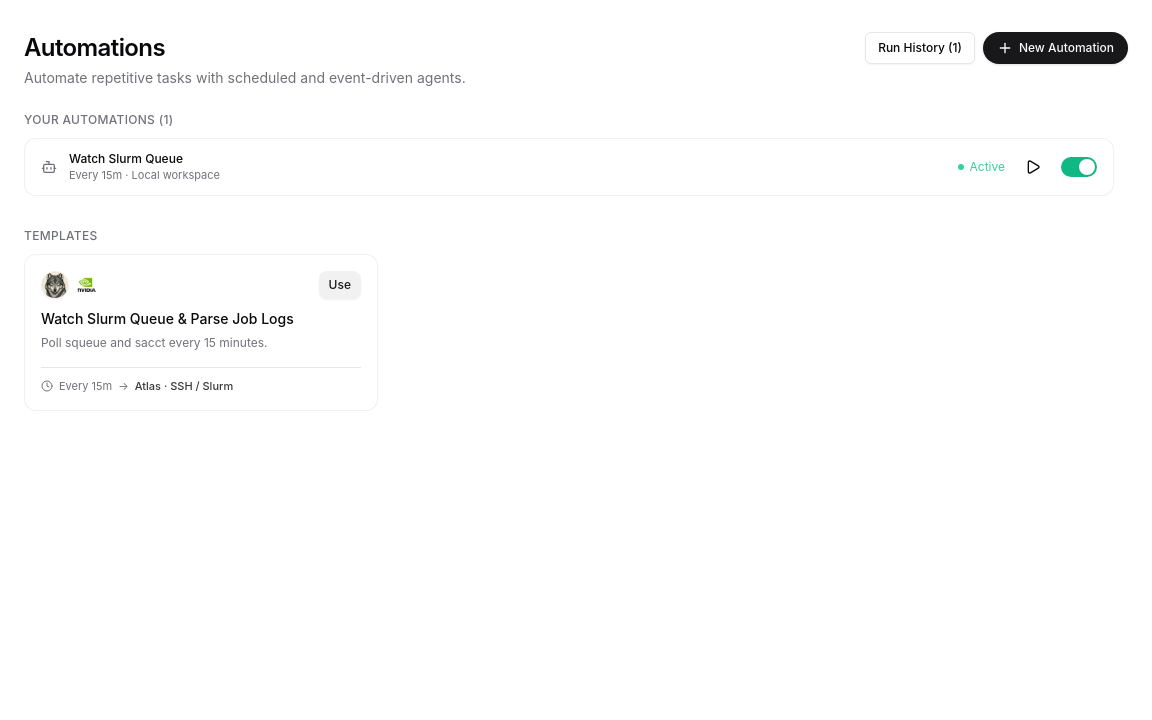
AutomationsView & SshView › renders simplified Automations Hub, opens Editor from template, saves, and views Run History
Check: the text "Watch Slurm Queue" is shown, box [69, 151, 183, 166]
# Click 'Use' on template to open streamlined Editor
Click the button "Use".
click(340, 285)  # box [319, 271, 361, 299]
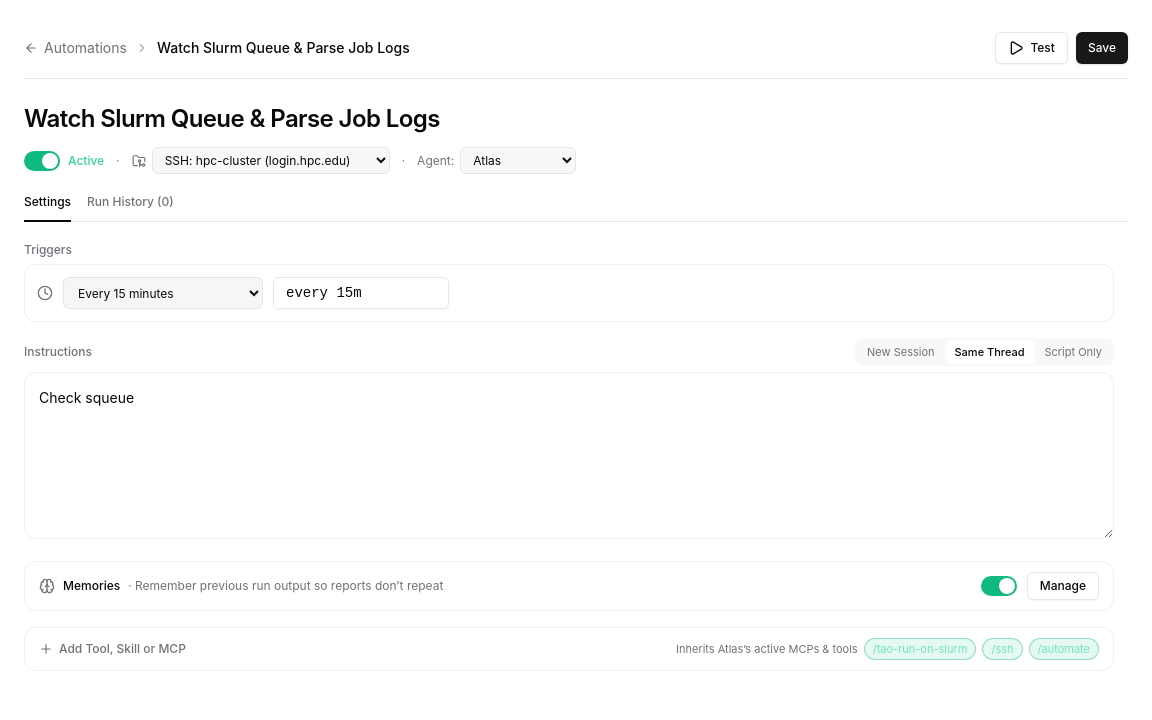
Check: the text "Triggers" is shown, box [24, 242, 72, 257]
Check: the button "New Session" is shown, box [857, 340, 945, 364]
Check: the button "Same Thread" is shown, box [944, 340, 1034, 364]
# Save new automation
Click the button "Save".
click(1102, 48)  # box [1076, 32, 1128, 64]
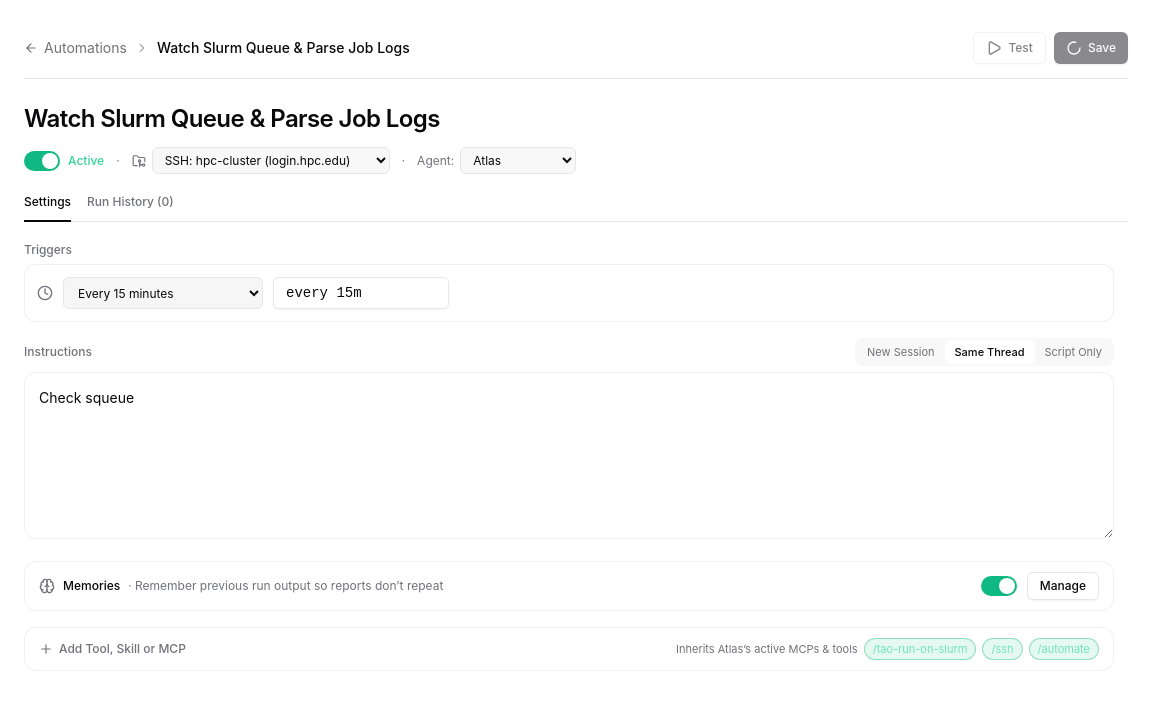
# Return to Automations Hub
Click the button "Automations".
click(75, 48)  # box [24, 38, 127, 58]
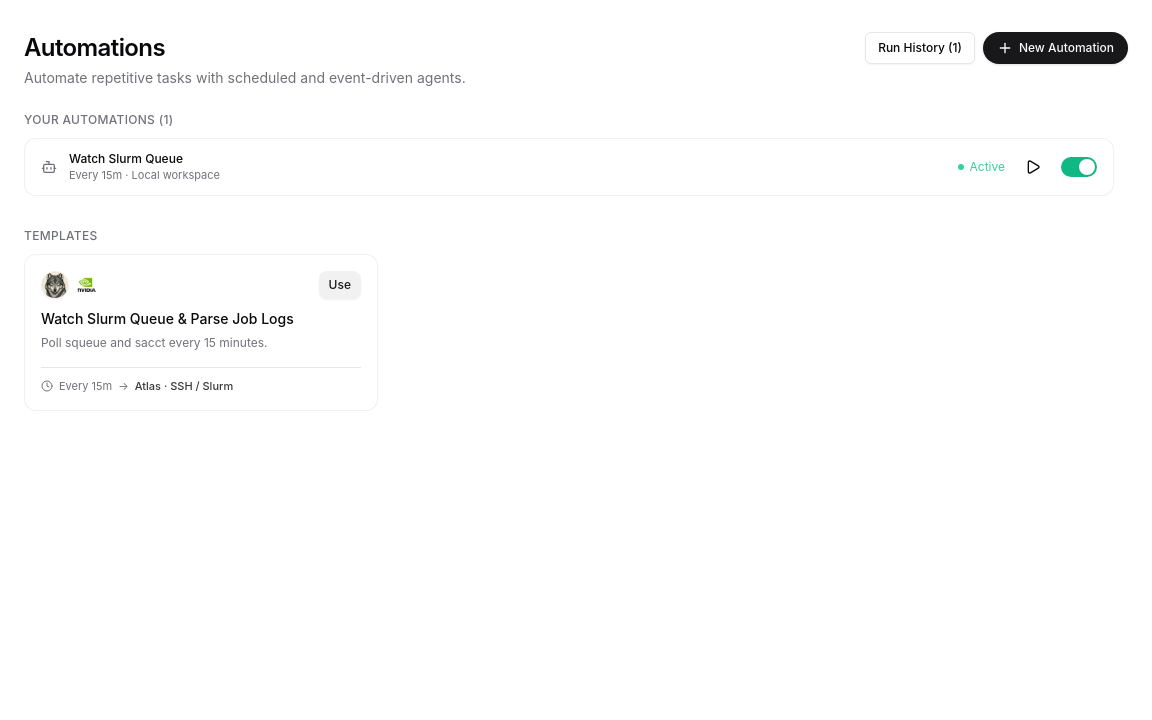
# Switch to Run History view
Click the button "Run History (1)".
click(920, 48)  # box [865, 32, 975, 64]
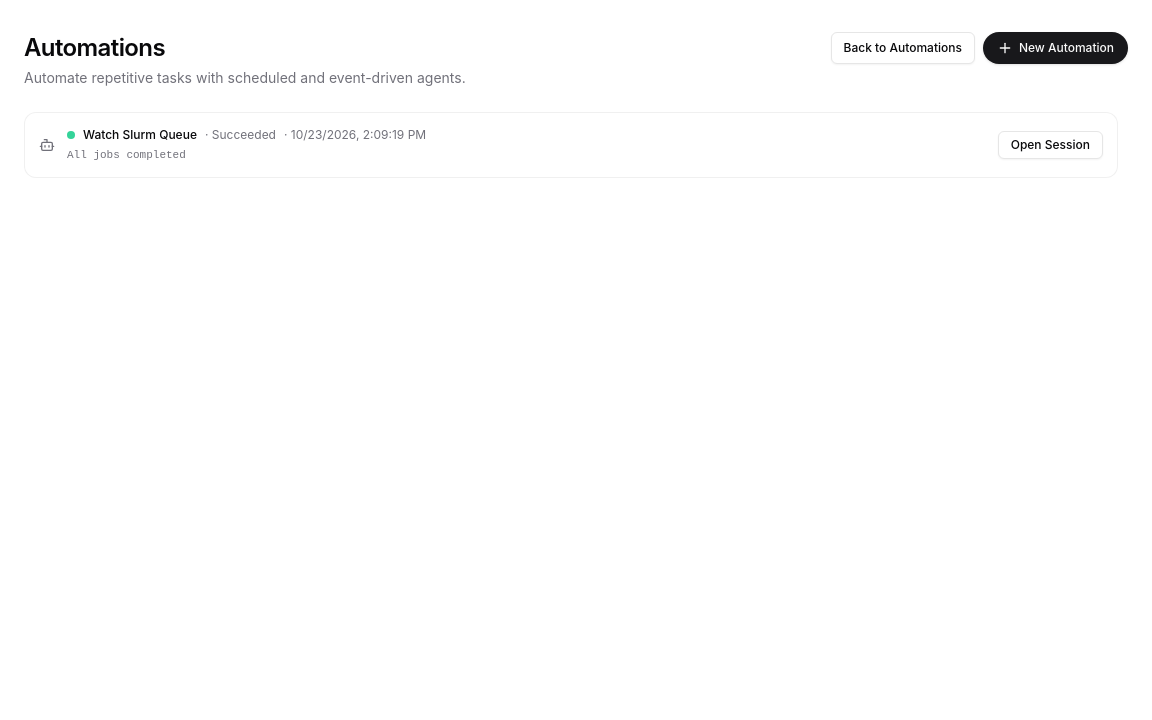
Check: the text "All jobs completed" is shown, box [67, 149, 186, 161]
